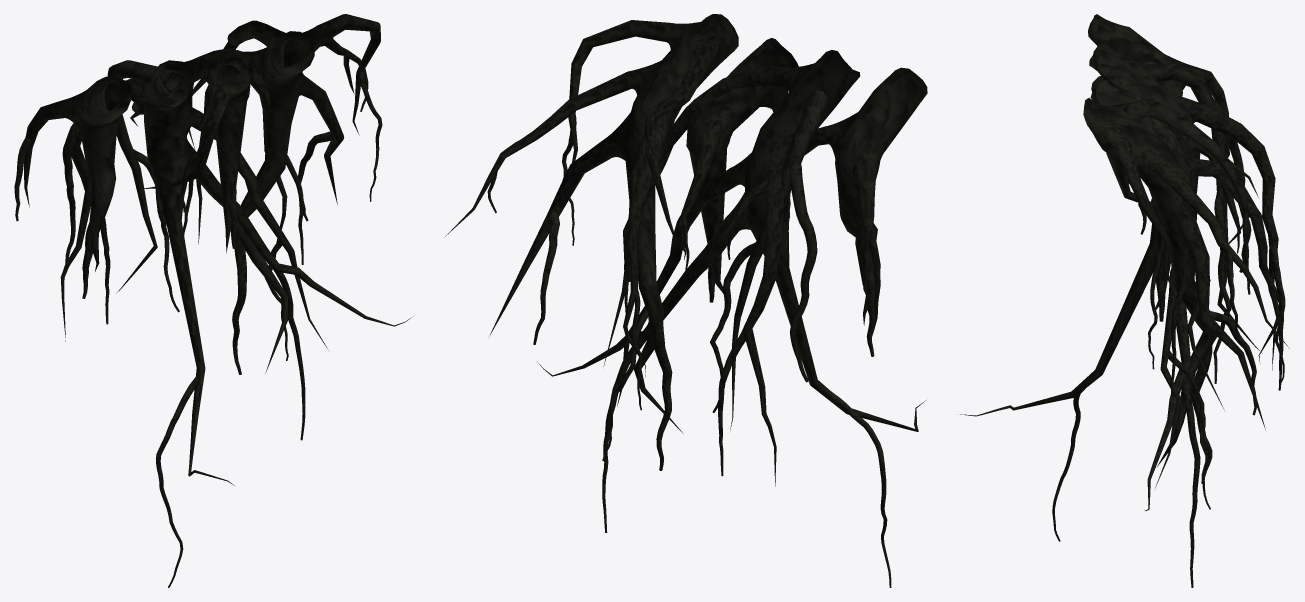
3 views of the same model, side by side, from view 1: azimuth 30°, elevation 25°; view 2: azimuth 150°, elevation 25°; view 3: azimuth 270°, elevation 25° (orthographic). The views are drawn at different scales.
Parts seen in each view (by area): view 1: SM_Roots_01_LOD0; view 2: SM_Roots_01_LOD0; view 3: SM_Roots_01_LOD0.
Boxes of the visible parts, <box> form: SM_Roots_01_LOD0: <box>14,14,413,587</box>; SM_Roots_01_LOD0: <box>445,14,927,587</box>; SM_Roots_01_LOD0: <box>960,14,1289,587</box>.
Size of the model in its own units: 5.85 by 7.62 by 4.5.
1 material, 1 textured.
